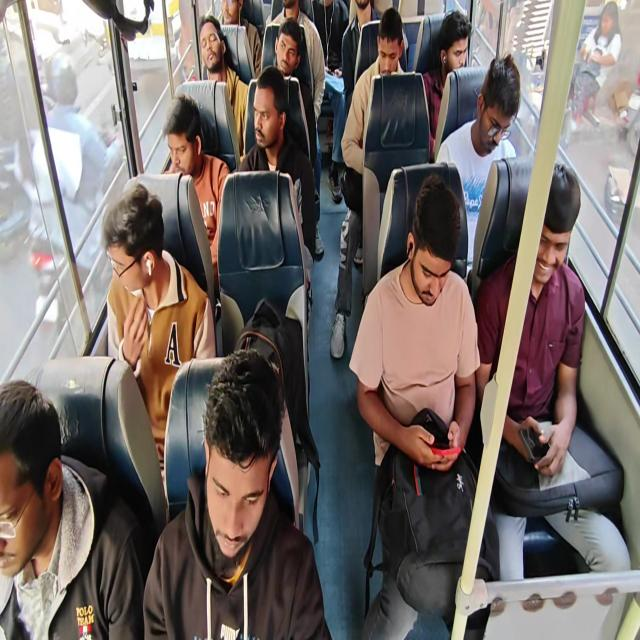person: (348, 174, 498, 638), (474, 159, 631, 583), (142, 348, 332, 638), (100, 182, 217, 506), (0, 378, 145, 639), (330, 7, 405, 359), (28, 50, 124, 264), (435, 53, 521, 278), (237, 65, 318, 261), (162, 93, 230, 293), (272, 17, 324, 256), (328, 0, 379, 203), (302, 0, 349, 202), (422, 10, 472, 158), (198, 13, 249, 156), (268, 0, 325, 126), (340, 0, 380, 114), (301, 0, 349, 76), (216, 0, 262, 78), (580, 1, 622, 78)
